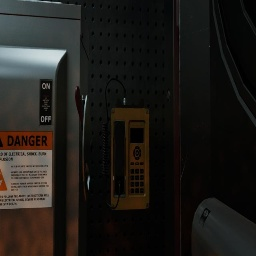EmergencyPhone ,: (102, 78, 149, 210)
SafetySwitchPanel ,: (0, 0, 93, 256)
